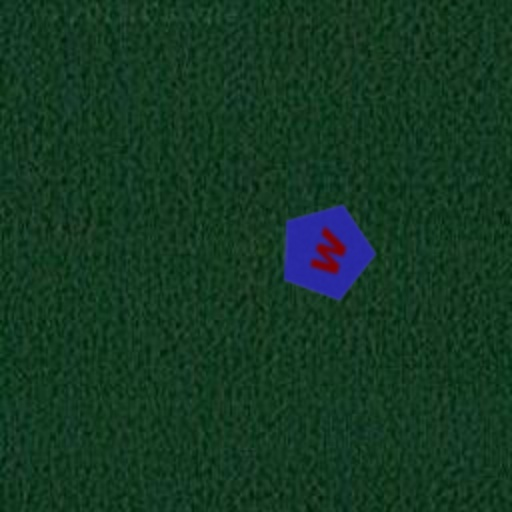pentagon: (260, 186, 392, 318)
